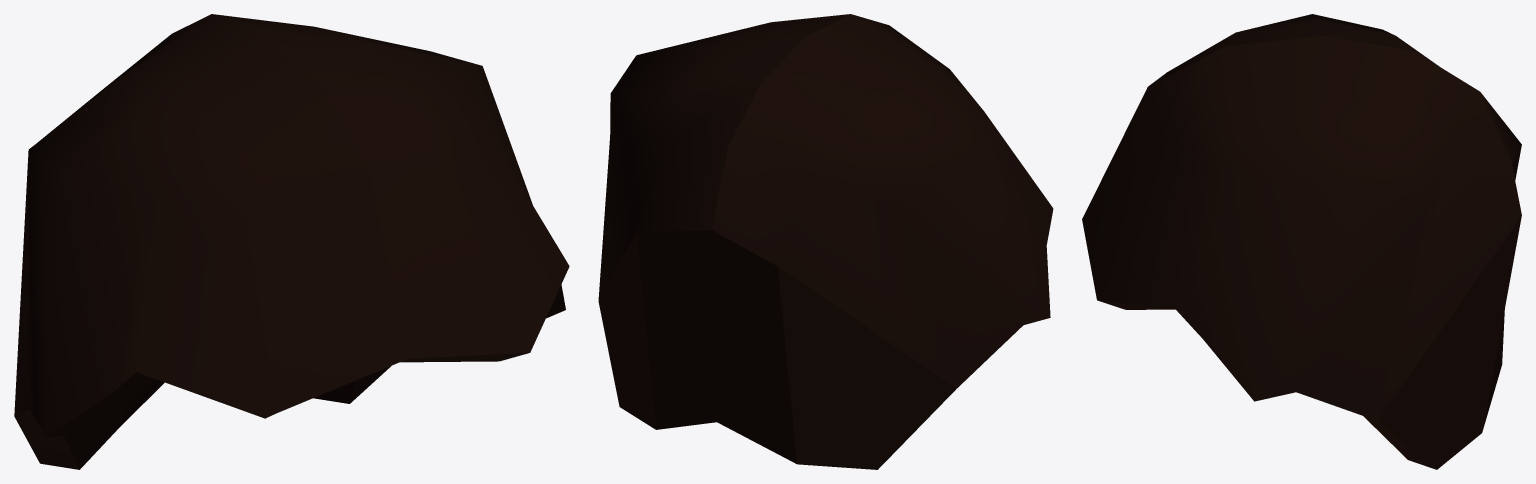
Rendered from Toon Cowboy Hair.fbx.
3 views of the same model, side by side, from view 1: azimuth 30°, elevation 25°; view 2: azimuth 150°, elevation 25°; view 3: azimuth 270°, elevation 25° (orthographic). The views are drawn at different scales.
Parts seen in each view (by area): view 1: polySurface3; view 2: polySurface3; view 3: polySurface3.
Boxes of the visible parts, <box> form: polySurface3: <box>14,14,569,469</box>; polySurface3: <box>598,14,1053,469</box>; polySurface3: <box>1082,14,1521,469</box>.
Bounding box in the file's own units: 8.31 × 6.7 × 7.23.
